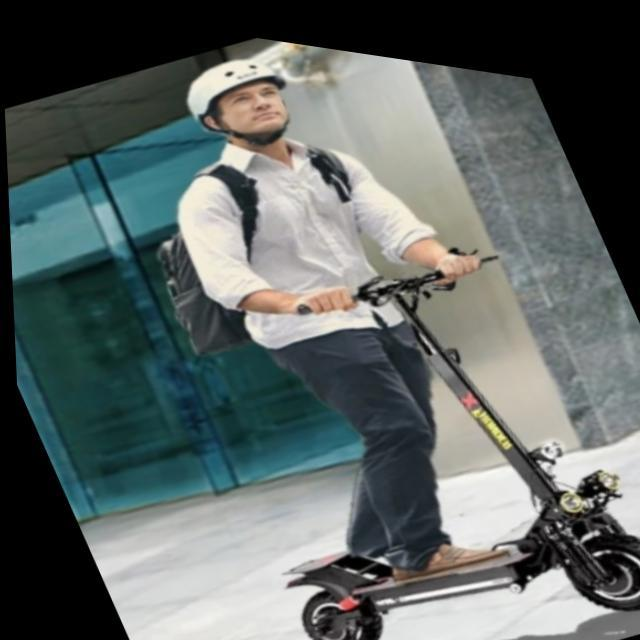Helmet: (183, 50, 299, 146)
